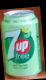sevenup: (2, 10, 43, 77)
